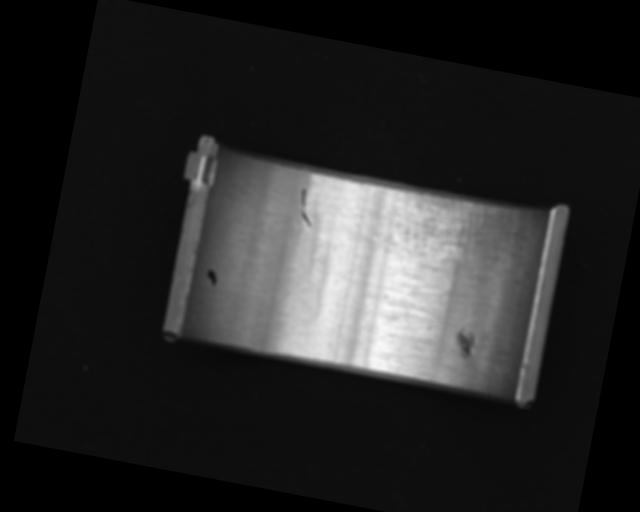blot: (204, 267, 219, 287)
bruise: (451, 325, 479, 359)
nick: (295, 187, 317, 226)
scratch: (355, 182, 497, 275)
